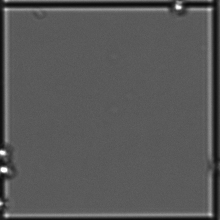Living Cell: (1, 163, 14, 183), (1, 141, 14, 159), (170, 2, 186, 16)
